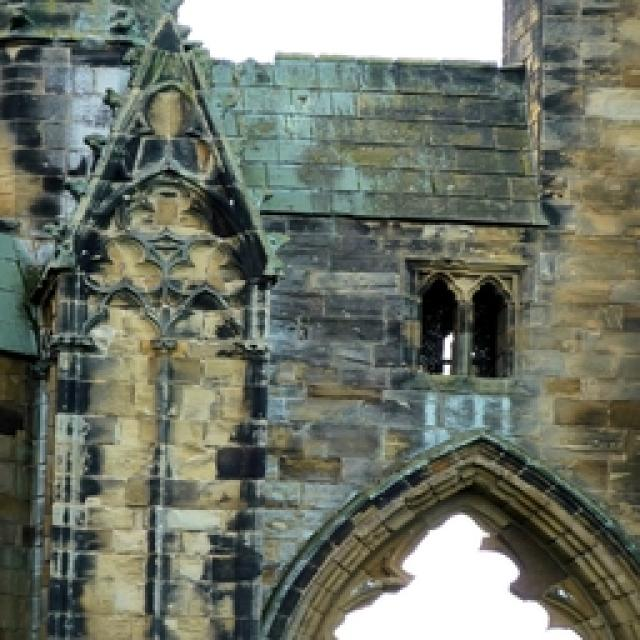Abbey: (226, 325, 640, 640)
